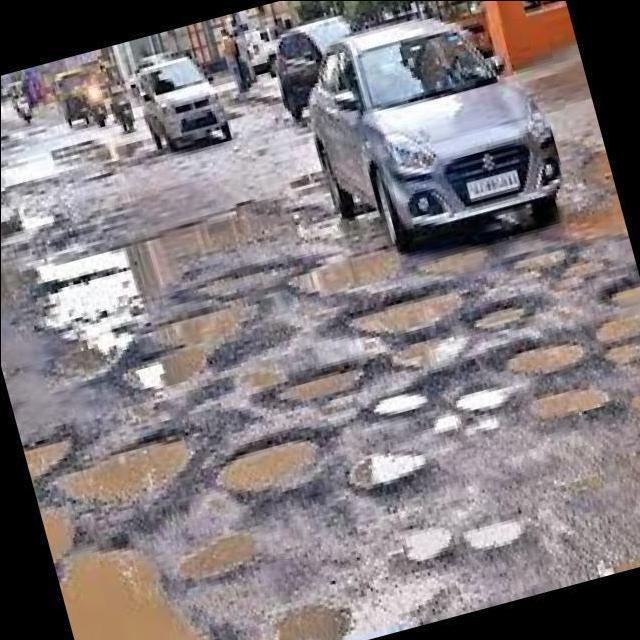pothole: (28, 201, 314, 331), (60, 540, 209, 640), (48, 436, 186, 510), (209, 438, 322, 512), (132, 292, 251, 351), (341, 289, 467, 342), (284, 247, 406, 297), (42, 317, 137, 375), (169, 531, 255, 588), (110, 345, 209, 393), (264, 369, 365, 408), (516, 380, 612, 421), (344, 452, 426, 498), (499, 342, 581, 375), (414, 245, 490, 280), (461, 515, 522, 556), (21, 436, 74, 481), (273, 607, 344, 640), (473, 300, 535, 334), (396, 341, 470, 369), (368, 389, 429, 420), (40, 503, 73, 560), (396, 522, 445, 560), (455, 384, 515, 415), (596, 305, 640, 346), (601, 275, 640, 300), (434, 412, 463, 436), (602, 345, 640, 363)
